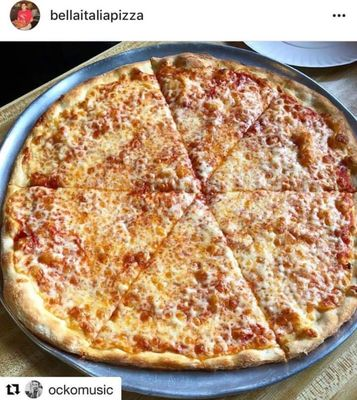sandwich: (1, 50, 352, 374)
